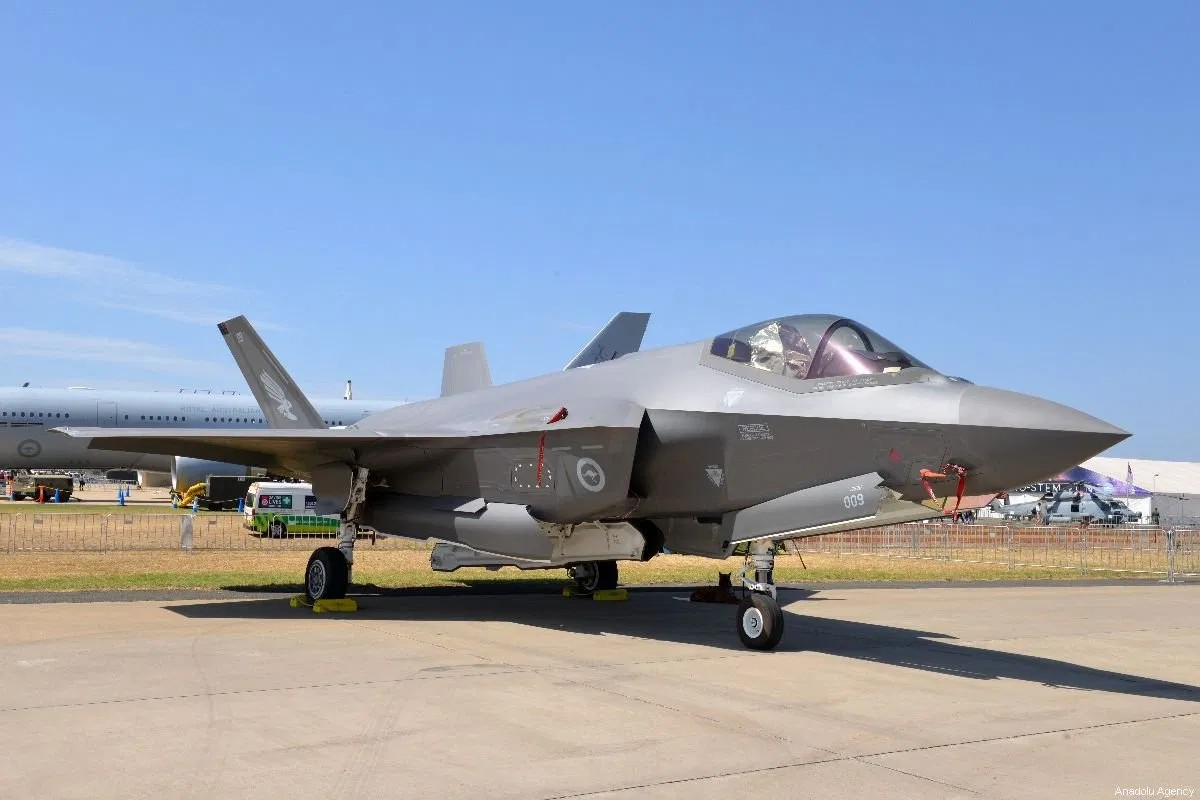F-35 Lightning: (46, 258, 1149, 668)
